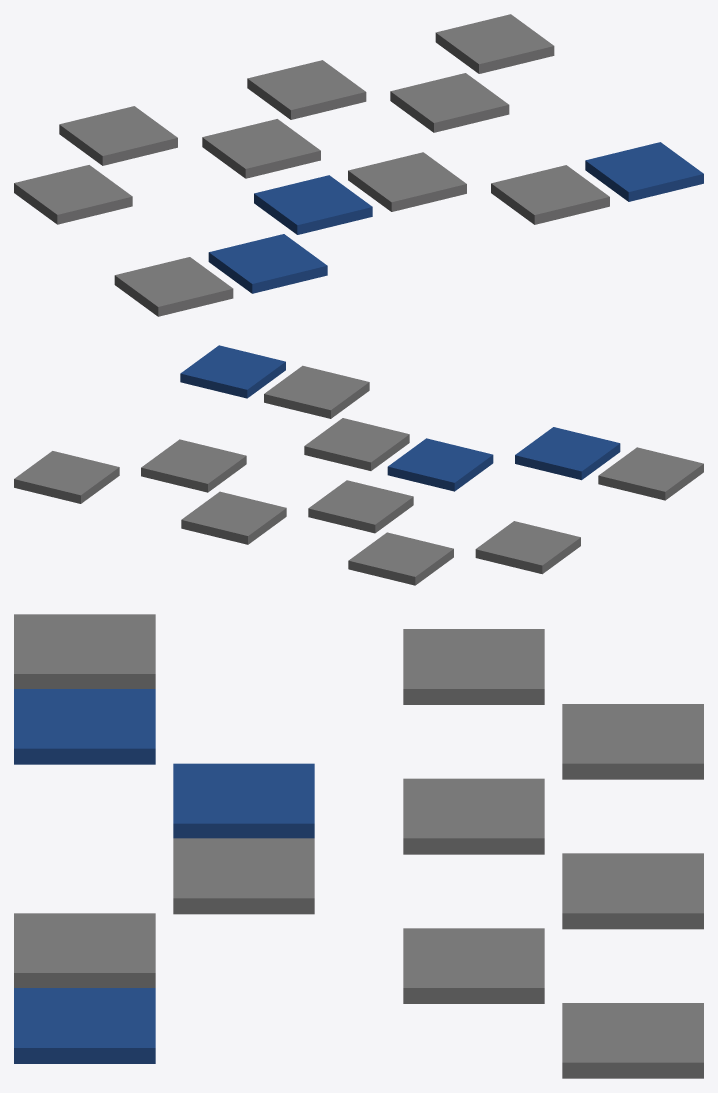
File: mazetile_passable.glb
3 renders of one model, top to bottom at view 1: azimuth 30°, elevation 25°; view 2: azimuth 150°, elevation 25°; view 3: azimuth 270°, elevation 25°, orthographic. The views are drawn at different scales.
Visible parts, largest first — view 1: mazetile_passable, mazetile_passable.009, mazetile_passable.001, mazetile_passable.010, mazetile_passable.011, mazetile_passable.004, mazetile_passable.005, mazetile_passable.008, mazetile_passable.002, mazetile_passable.003, mazetile_passable.006, mazetile_passable.007; view 2: mazetile_passable.004, mazetile_passable.003, mazetile_passable, mazetile_passable.001, mazetile_passable.010, mazetile_passable.002, mazetile_passable.005, mazetile_passable.006, mazetile_passable.008, mazetile_passable.009, mazetile_passable.007, mazetile_passable.011; view 3: mazetile_passable.002, mazetile_passable.008, mazetile_passable.009, mazetile_passable.001, mazetile_passable.004, mazetile_passable.003, mazetile_passable.006, mazetile_passable.007, mazetile_passable.010, mazetile_passable.011, mazetile_passable, mazetile_passable.005.
Part boxes in pixels (x1,y1,x2,y2): mazetile_passable: (114, 257, 233, 316); mazetile_passable.009: (247, 60, 366, 119); mazetile_passable.001: (208, 234, 327, 293); mazetile_passable.010: (390, 73, 509, 132); mazetile_passable.011: (435, 14, 554, 73); mazetile_passable.004: (254, 175, 372, 234); mazetile_passable.005: (491, 165, 609, 224); mazetile_passable.008: (202, 119, 320, 178); mazetile_passable.002: (348, 152, 466, 211); mazetile_passable.003: (585, 142, 703, 201); mazetile_passable.006: (14, 165, 132, 224); mazetile_passable.007: (59, 106, 177, 165); mazetile_passable.004: (387, 438, 493, 491); mazetile_passable.003: (180, 345, 285, 398); mazetile_passable: (598, 447, 703, 500); mazetile_passable.001: (515, 427, 620, 480); mazetile_passable.010: (141, 439, 246, 492); mazetile_passable.002: (304, 418, 409, 470); mazetile_passable.005: (264, 365, 369, 418); mazetile_passable.006: (475, 521, 580, 574); mazetile_passable.008: (308, 480, 413, 533); mazetile_passable.009: (181, 491, 286, 544); mazetile_passable.007: (348, 532, 453, 585); mazetile_passable.011: (14, 451, 119, 503); mazetile_passable.002: (173, 838, 314, 914); mazetile_passable.008: (403, 778, 544, 854); mazetile_passable.009: (562, 853, 703, 929); mazetile_passable.001: (14, 689, 155, 764); mazetile_passable.004: (173, 763, 314, 838); mazetile_passable.003: (14, 988, 155, 1063); mazetile_passable.006: (403, 629, 544, 704); mazetile_passable.007: (562, 704, 703, 779); mazetile_passable.010: (403, 928, 544, 1003); mazetile_passable.011: (562, 1003, 703, 1078); mazetile_passable: (14, 614, 155, 688); mazetile_passable.005: (14, 913, 155, 987).
Size of the model in its own units: 15 by 0.25 by 9.75.
1 material, 1 textured.
